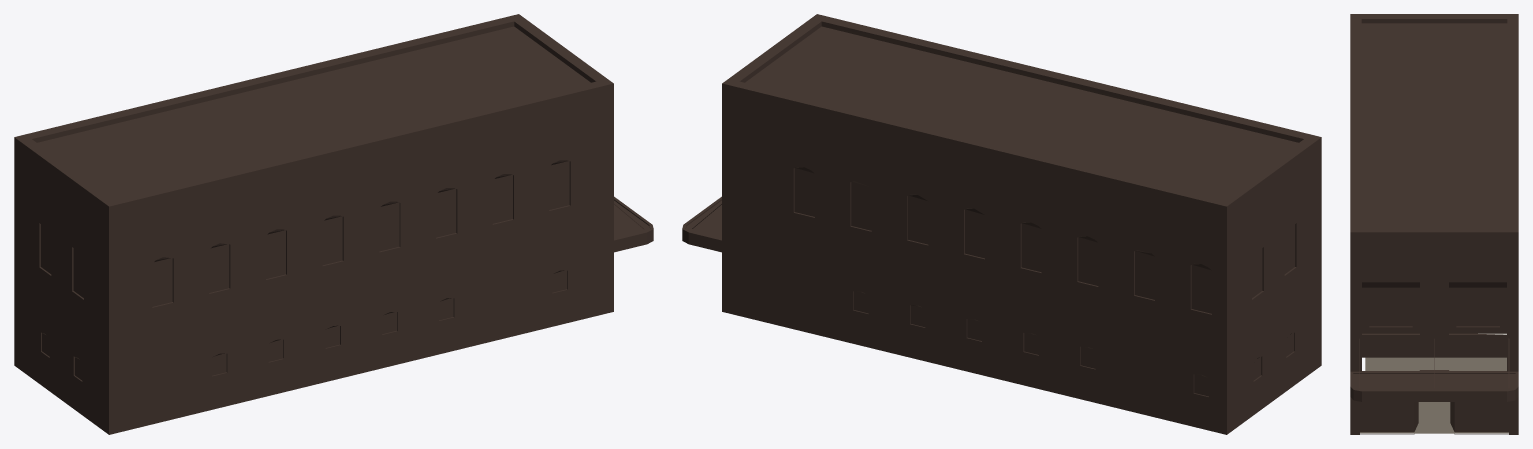
The model's file is brick-shop.access-v7.lod2.glb.
The picture shows the model from 3 angles, left to right: view 1: azimuth 30°, elevation 25°; view 2: azimuth 150°, elevation 25°; view 3: azimuth 270°, elevation 25°; orthographic projection. The views are drawn at different scales.
Parts seen in each view (by area): view 1: Object_4; view 2: Object_4; view 3: Object_4.
Boxes of the visible parts, <box> form: Object_4: <box>14,14,653,434</box>; Object_4: <box>682,14,1321,434</box>; Object_4: <box>1350,14,1518,434</box>.
Size of the model in its own units: 24.23 by 9.61 by 7.24.
